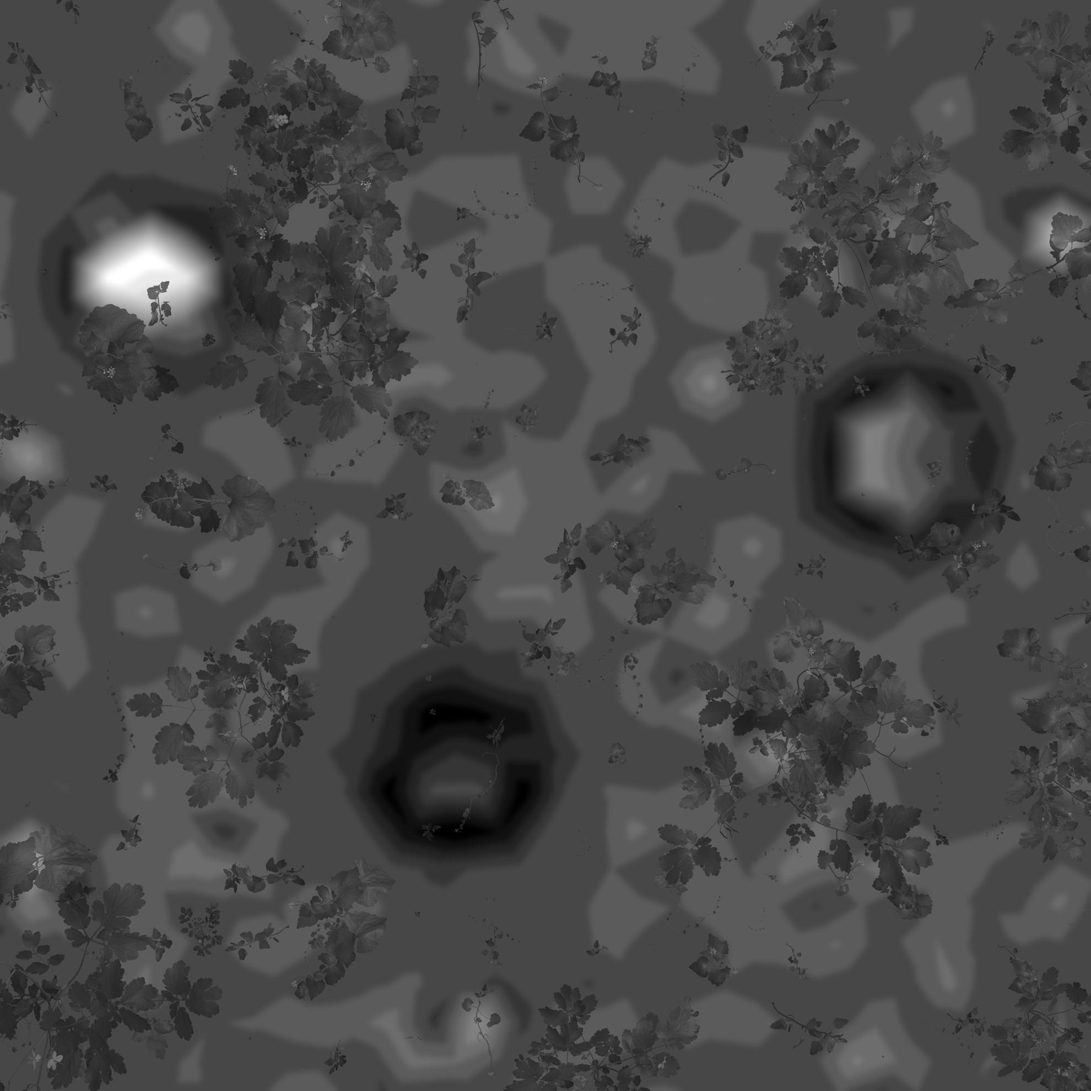landmine: (807, 373, 996, 548), (363, 694, 549, 857), (58, 200, 222, 357)
